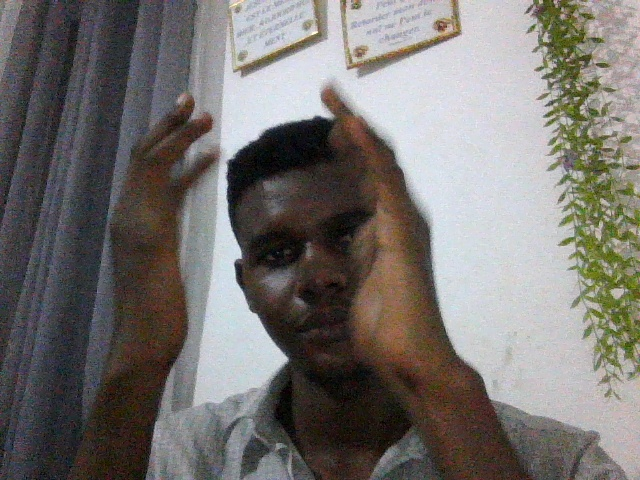hand: (84, 106, 213, 401)
